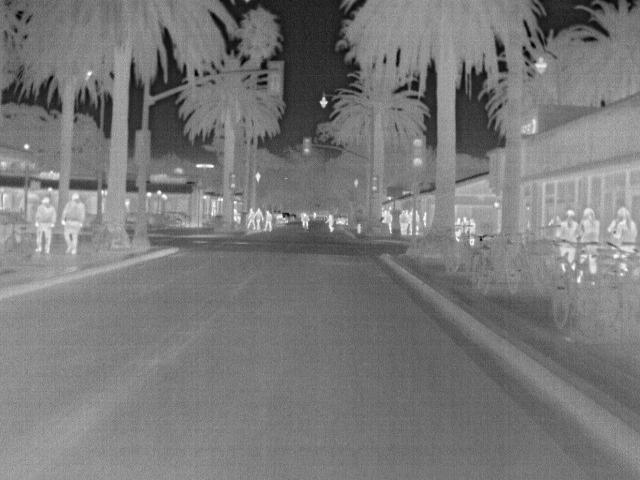car: (334, 213, 350, 227)
person: (60, 193, 86, 254), (32, 196, 58, 253), (578, 205, 601, 242), (616, 207, 638, 244), (556, 210, 579, 243), (398, 208, 411, 236), (382, 208, 395, 236), (253, 208, 265, 233), (324, 213, 339, 233), (244, 208, 257, 229), (264, 210, 276, 232), (452, 215, 465, 234), (466, 218, 478, 237), (299, 212, 311, 230)
